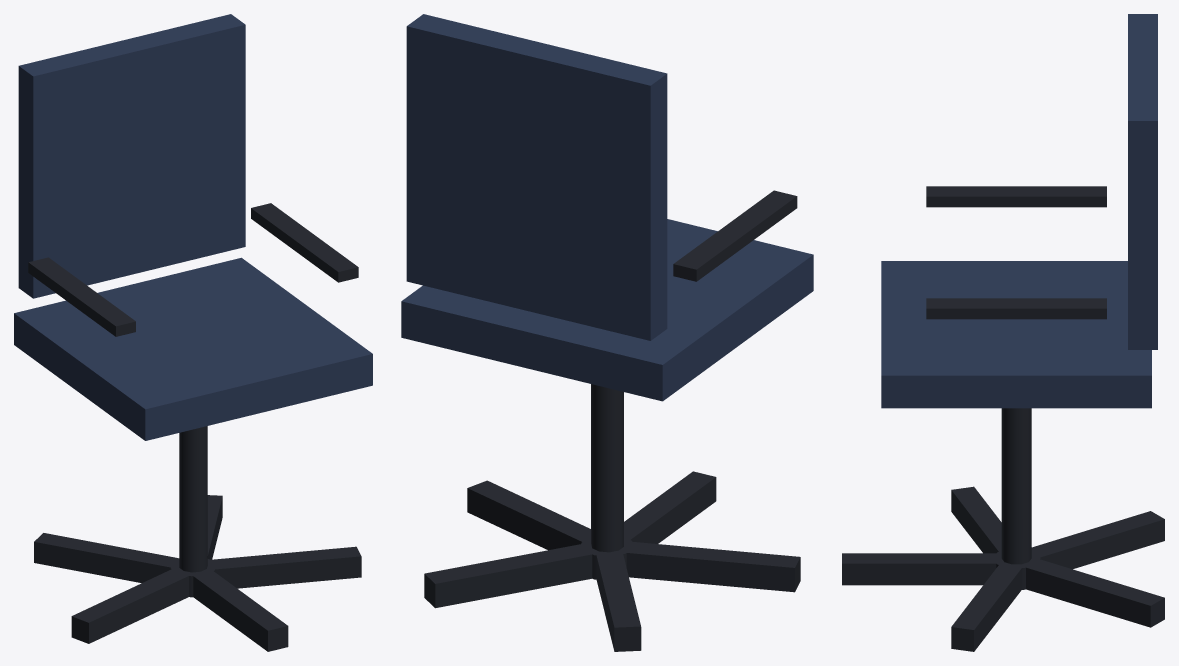
File: furn_chair.glb
3 renders of one model, left to right at view 1: azimuth 30°, elevation 25°; view 2: azimuth 150°, elevation 25°; view 3: azimuth 270°, elevation 25°, orthographic. The views are drawn at different scales.
Parts seen in each view (by area): view 1: furn.chair_swivel; view 2: furn.chair_swivel; view 3: furn.chair_swivel.
Part boxes in pixels (x1,y1,x2,y2): furn.chair_swivel: (14, 14, 372, 651); furn.chair_swivel: (401, 14, 813, 651); furn.chair_swivel: (842, 14, 1164, 651).
Size of the model in its own units: 0.564 by 0.94 by 0.5364.
